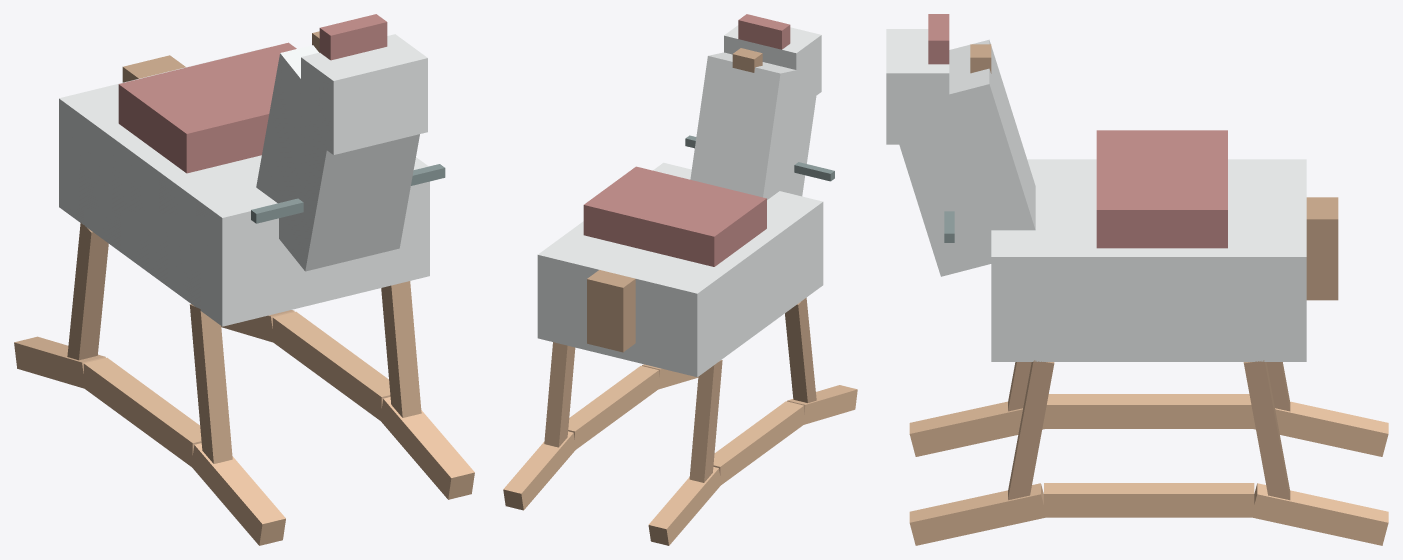
Rendered from rockingHorse.glb.
The picture shows the model from 3 angles, left to right: view 1: azimuth 30°, elevation 25°; view 2: azimuth 150°, elevation 25°; view 3: azimuth 270°, elevation 25°; orthographic projection. The views are drawn at different scales.
Parts seen in each view (by area): view 1: rockingHorse; view 2: rockingHorse; view 3: rockingHorse.
Part boxes in pixels (bbox=[...]): rockingHorse: bbox=[14, 14, 474, 545]; rockingHorse: bbox=[503, 14, 857, 545]; rockingHorse: bbox=[886, 14, 1388, 545].
Size of the model in its own units: 0.225 by 0.4922 by 0.4779.
